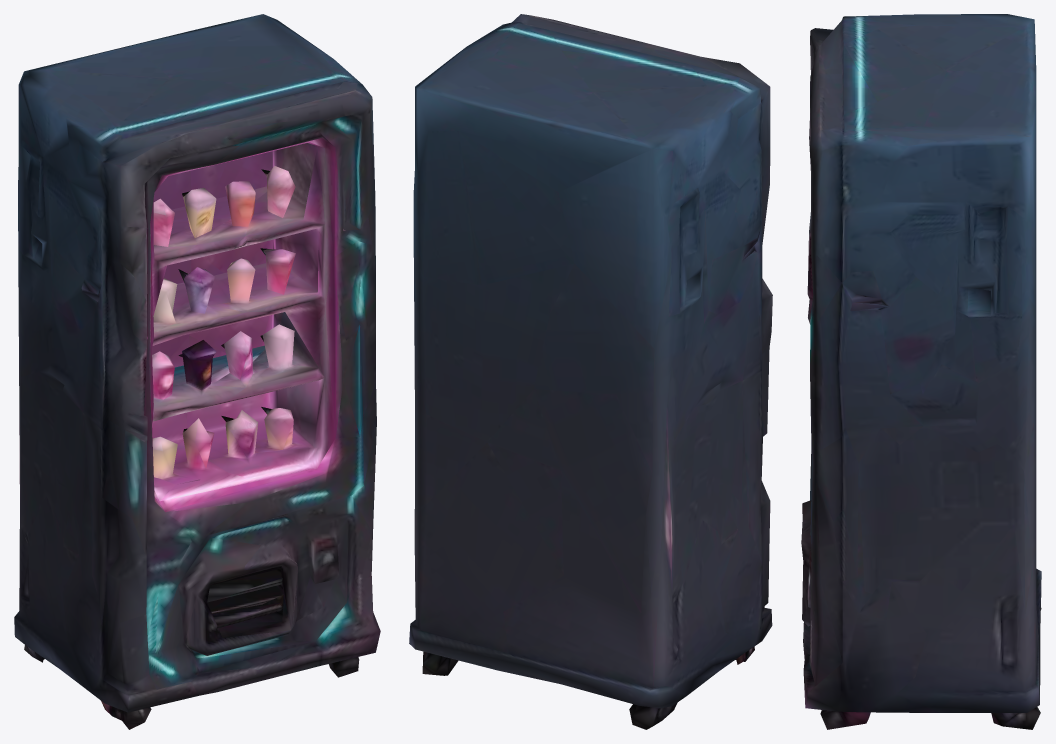
3 views of the same model, side by side, from view 1: azimuth 30°, elevation 25°; view 2: azimuth 150°, elevation 25°; view 3: azimuth 270°, elevation 25° (orthographic). The views are drawn at different scales.
Visible parts, largest first — view 1: tripo_node_e4493c0c-72b6-48af-b0fd-525db9fd45af; view 2: tripo_node_e4493c0c-72b6-48af-b0fd-525db9fd45af; view 3: tripo_node_e4493c0c-72b6-48af-b0fd-525db9fd45af.
Boxes of the visible parts, x1,y1,x2,y2 form: tripo_node_e4493c0c-72b6-48af-b0fd-525db9fd45af: (14, 14, 380, 729); tripo_node_e4493c0c-72b6-48af-b0fd-525db9fd45af: (409, 14, 772, 729); tripo_node_e4493c0c-72b6-48af-b0fd-525db9fd45af: (801, 14, 1041, 729).
Size of the model in its own units: 0.95 by 2 by 0.7183.
Materials: 1 (1 with a texture image).
